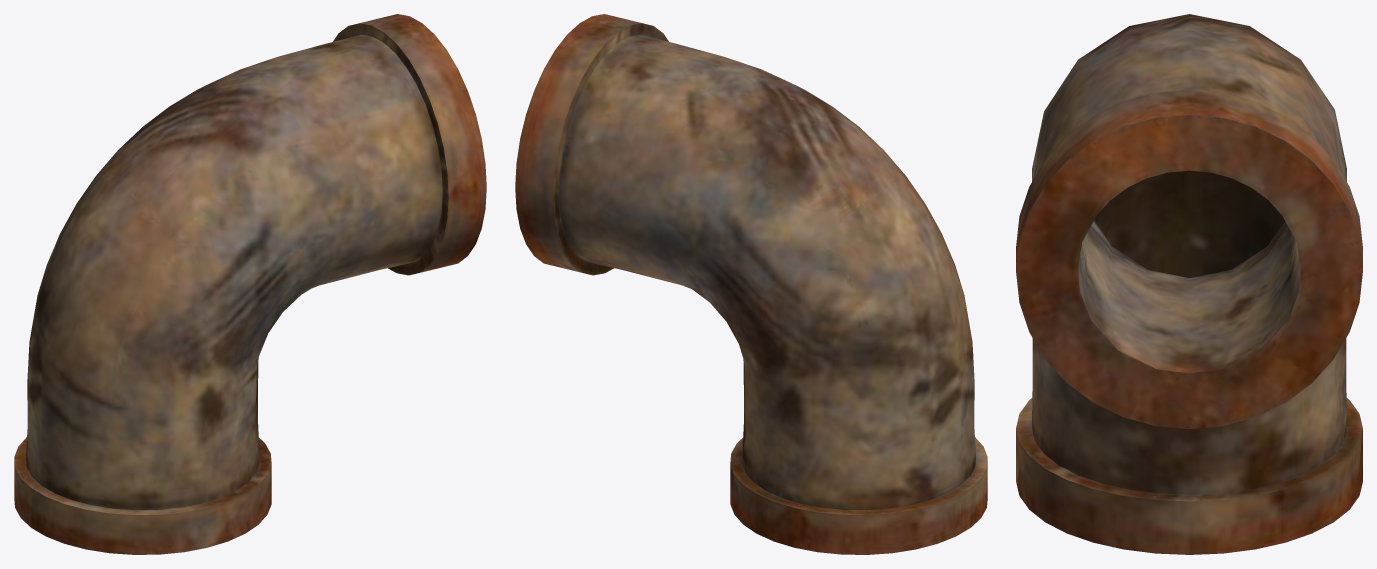
The model's file is old_pipe_02.glb.
3 renders of one model, left to right at view 1: azimuth 30°, elevation 25°; view 2: azimuth 150°, elevation 25°; view 3: azimuth 270°, elevation 25°, orthographic. The views are drawn at different scales.
Parts seen in each view (by area): view 1: old_pipe_02; view 2: old_pipe_02; view 3: old_pipe_02.
Boxes of the visible parts, x1,y1,x2,y2 form: old_pipe_02: [14, 14, 486, 554]; old_pipe_02: [515, 14, 987, 554]; old_pipe_02: [1016, 14, 1362, 554].
Size of what is drawn, in the model's own units: 0.1476 by 0.1476 by 0.0843.
1 material, 1 textured.
